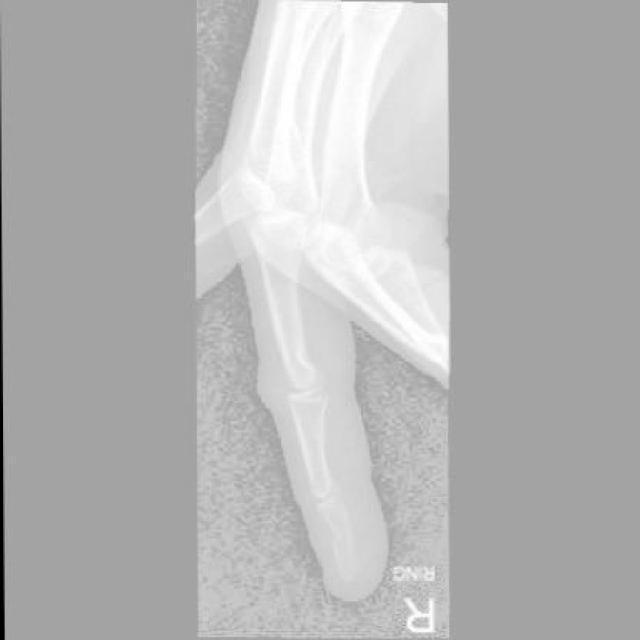Fracture: (332, 534, 362, 567)
